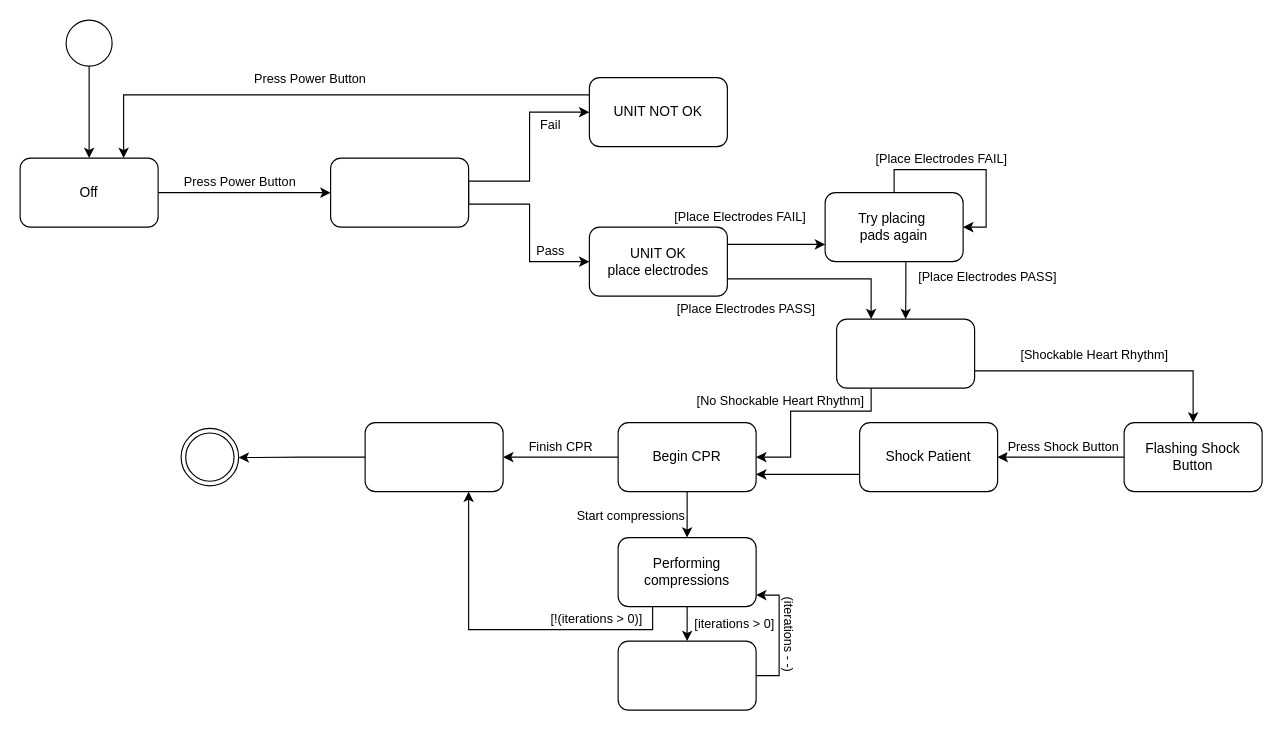
This 1282x730 diagram has some shape labels left out. Each missing label, with the centre of its shape:
"Await EMS" goes at pixel 433 456.
"Begin Heart Rhythm Analysis" goes at pixel 905 353.
"Continue compressions" goes at pixel 686 675.
"Perform Self Test" goes at pixel 399 192.
